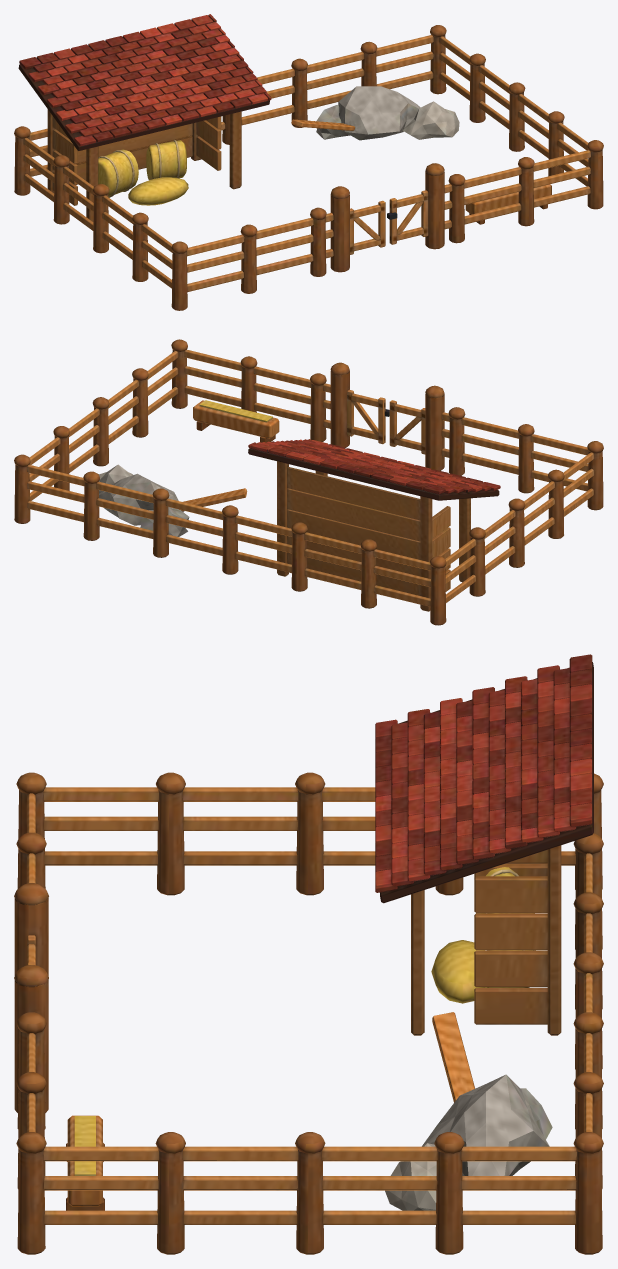
Rendered from nubian_yard.glb.
3 views of the same model, one above another, from view 1: azimuth 30°, elevation 25°; view 2: azimuth 150°, elevation 25°; view 3: azimuth 270°, elevation 25° (orthographic). The views are drawn at different scales.
Parts seen in each view (by area): view 1: nubian_yard, gate1, gate0; view 2: nubian_yard, gate1, gate0; view 3: nubian_yard.
Part boxes in pixels (x1,y1,x2,y2): nubian_yard: (14, 14, 603, 310); gate1: (387, 190, 428, 244); gate0: (350, 200, 385, 254); nubian_yard: (14, 339, 603, 625); gate1: (347, 389, 389, 444); gate0: (389, 400, 425, 454); nubian_yard: (14, 654, 603, 1254).
Bounding box in the file's own units: 3 × 0.9343 × 2.01.
Materials: 1 (1 with a texture image).
